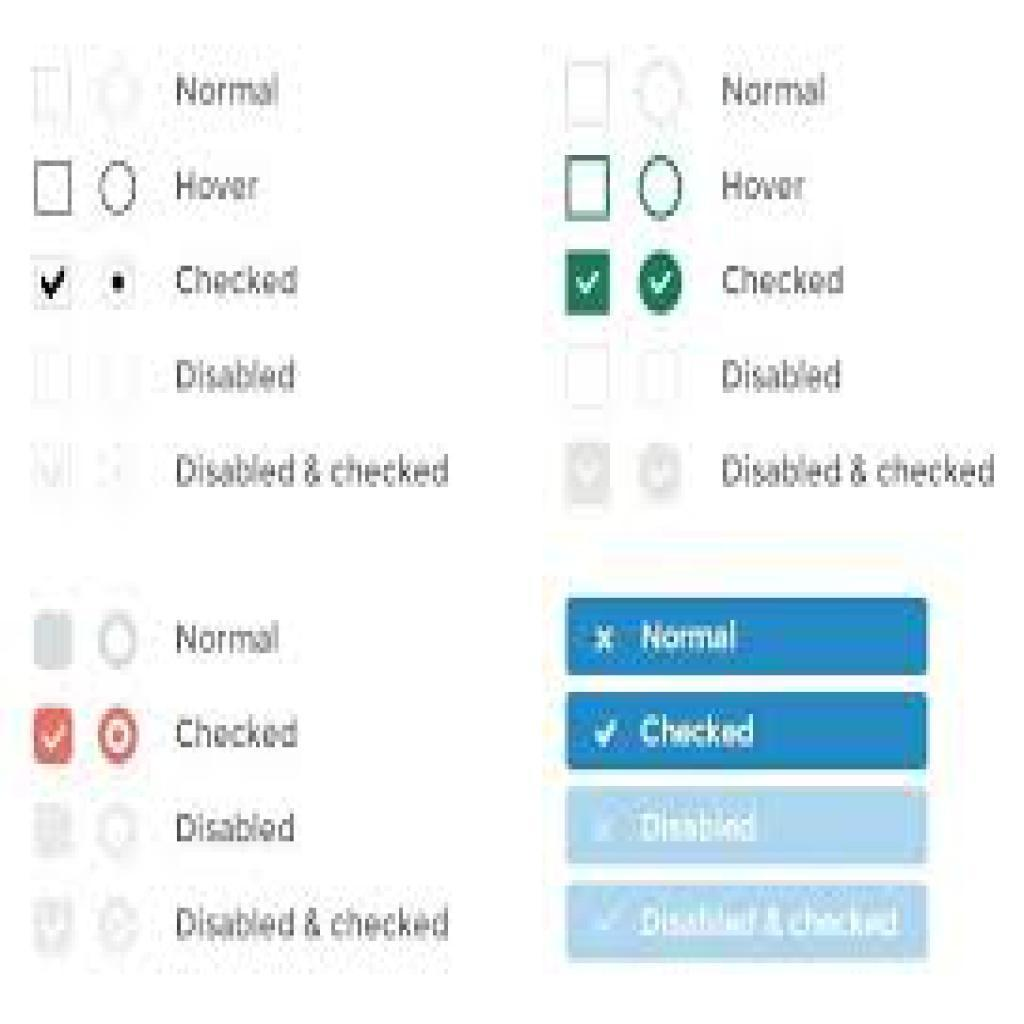button: (565, 595, 930, 678), (567, 785, 929, 867), (565, 692, 930, 772), (568, 884, 930, 962)
checkbox: (565, 438, 614, 510), (564, 61, 613, 130), (565, 155, 612, 222), (32, 704, 77, 770), (567, 248, 610, 317), (32, 612, 79, 675), (31, 897, 77, 959), (567, 344, 610, 409), (32, 802, 77, 863), (32, 65, 73, 125), (32, 255, 73, 311), (31, 440, 74, 493), (31, 350, 73, 403), (34, 160, 73, 216)
label: (718, 447, 1002, 493), (173, 450, 455, 496), (174, 903, 455, 947), (170, 353, 301, 402), (172, 711, 311, 757), (718, 352, 848, 399), (718, 259, 852, 301), (174, 262, 303, 302), (717, 68, 834, 112), (175, 809, 300, 850), (177, 617, 289, 661), (177, 69, 283, 111), (720, 165, 807, 208), (177, 164, 263, 204)
radio: (635, 153, 686, 226), (634, 59, 685, 127), (637, 249, 686, 319), (637, 441, 685, 504), (637, 348, 687, 408), (94, 66, 144, 124), (95, 899, 141, 958), (99, 708, 142, 769), (99, 805, 140, 864), (100, 612, 140, 670), (100, 161, 138, 217), (101, 260, 140, 310)
